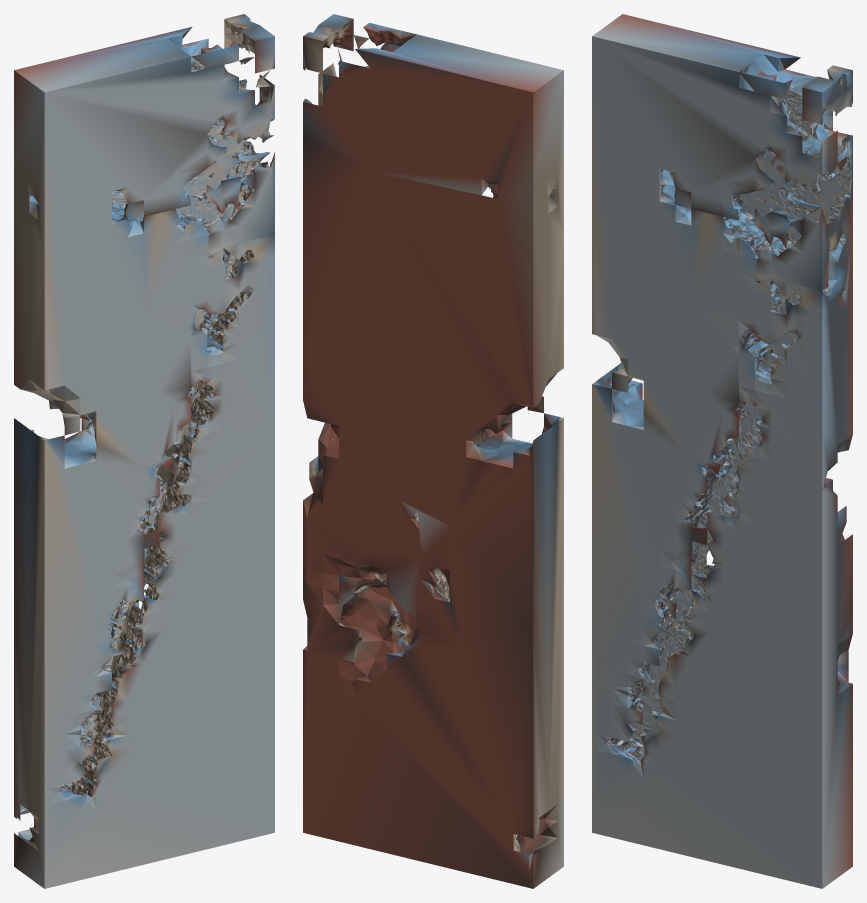
File: floor05.glb
The picture shows the model from 3 angles, left to right: view 1: azimuth 30°, elevation 25°; view 2: azimuth 150°, elevation 25°; view 3: azimuth 330°, elevation 25°; orthographic projection.
Parts seen in each view (by area): view 1: Mesh_0_Part_0; view 2: Mesh_0_Part_0; view 3: Mesh_0_Part_0.
Boxes of the visible parts, bbox=[...] form: Mesh_0_Part_0: bbox=[14, 14, 274, 888]; Mesh_0_Part_0: bbox=[303, 14, 563, 888]; Mesh_0_Part_0: bbox=[592, 14, 852, 888].
Size of the model in its own units: 7.4 by 24.37 by 1.72.
